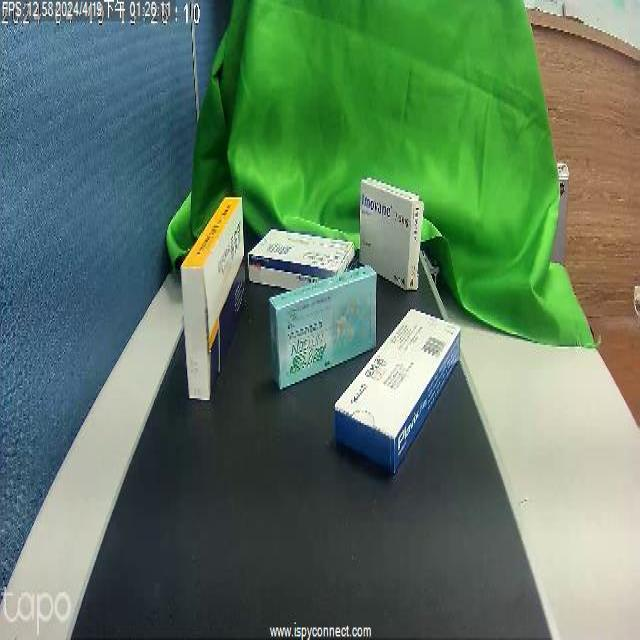box: (344, 317, 456, 473), (169, 206, 245, 401), (261, 258, 369, 390), (250, 226, 348, 286)
